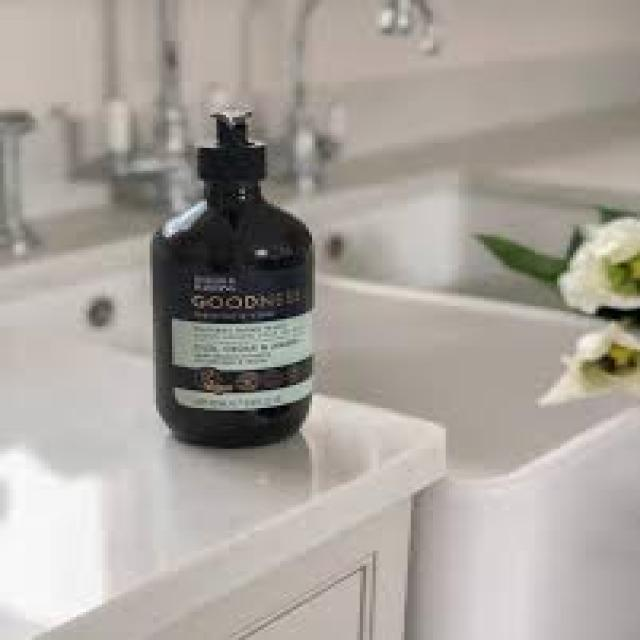liquid soap: (150, 113, 328, 450)
